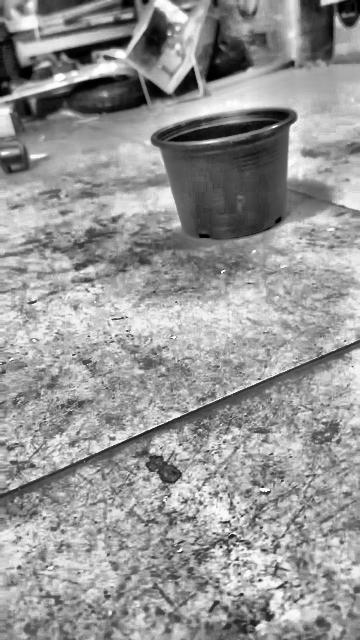pot: (151, 106, 297, 239)
